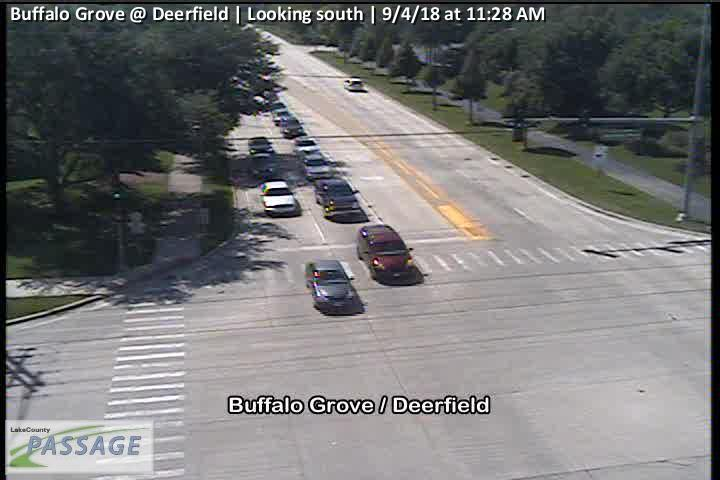Sedan: (356, 224, 416, 283), (307, 259, 362, 317), (315, 178, 360, 221), (261, 180, 299, 217), (303, 154, 332, 181), (248, 136, 273, 156), (294, 138, 319, 157), (280, 116, 303, 136), (343, 78, 363, 91)
